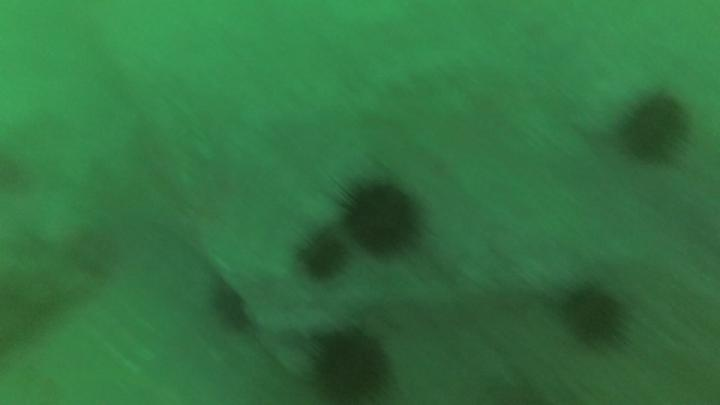echinus: (345, 175, 427, 269), (298, 329, 396, 405), (554, 279, 626, 362), (616, 93, 689, 174), (292, 218, 354, 285)
